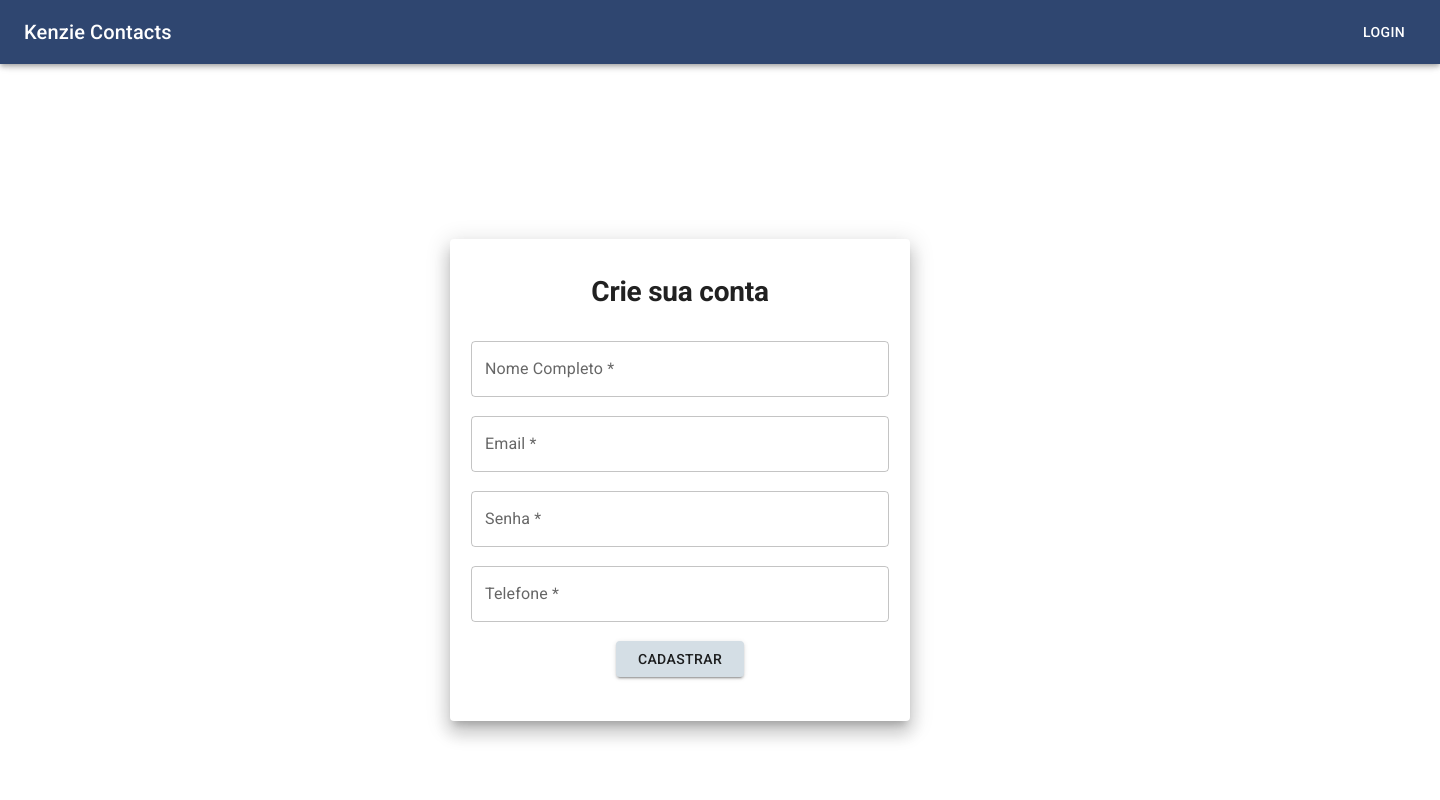
Test: Client › Tries to register
The width and height of the screenshot is (1440, 800).
In the field with id "name": (680, 369) [471,341,889,397], type "Kenzinho"
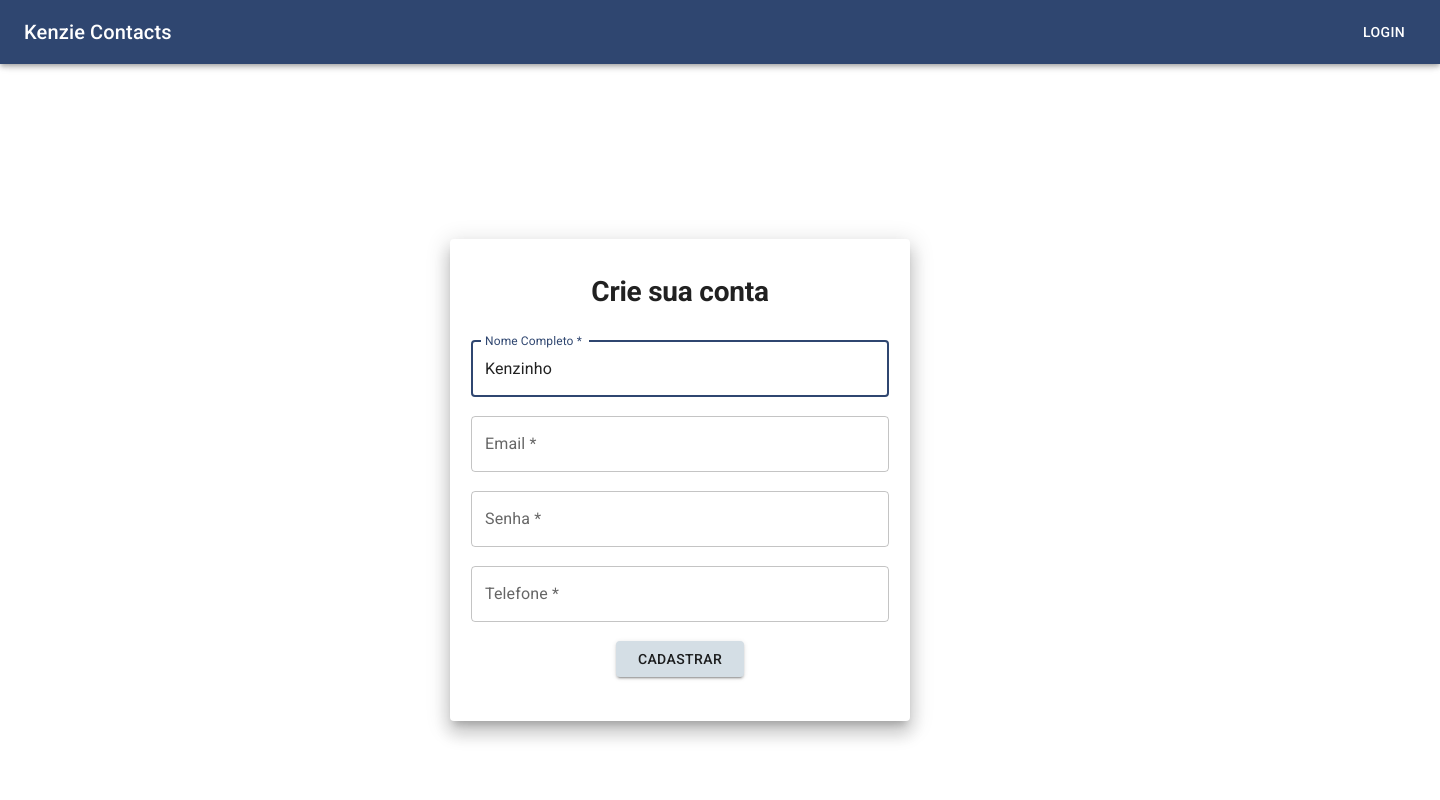
In the field with id "email": (680, 444) [471,416,889,472], type "kenzinho@mail.com"
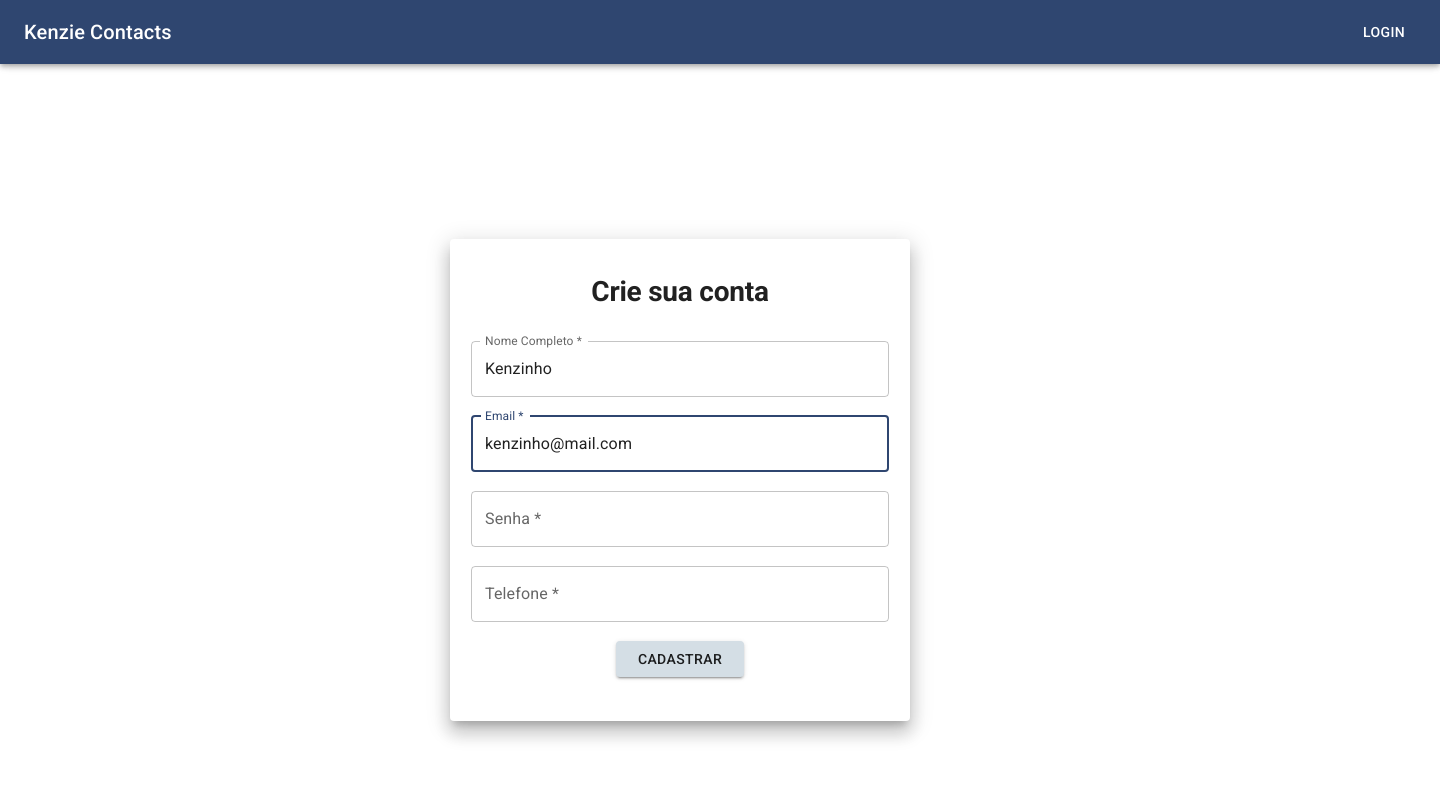
In the password field labelled "Senha *": (680, 519) [471,491,889,547], type "1234"
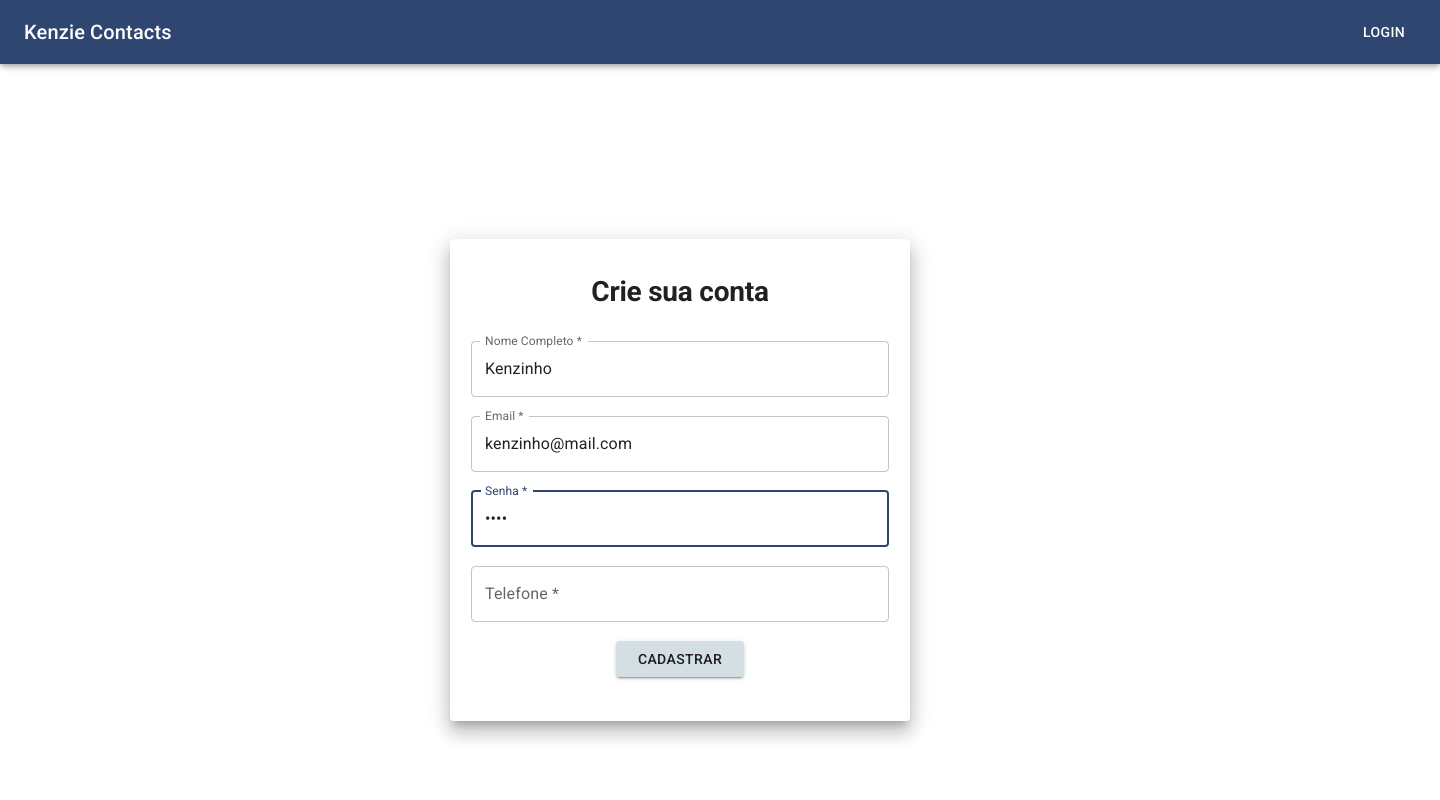
In the field labelled "Telefone *": (680, 594) [471,566,889,622], type "(00) 1111-1111"
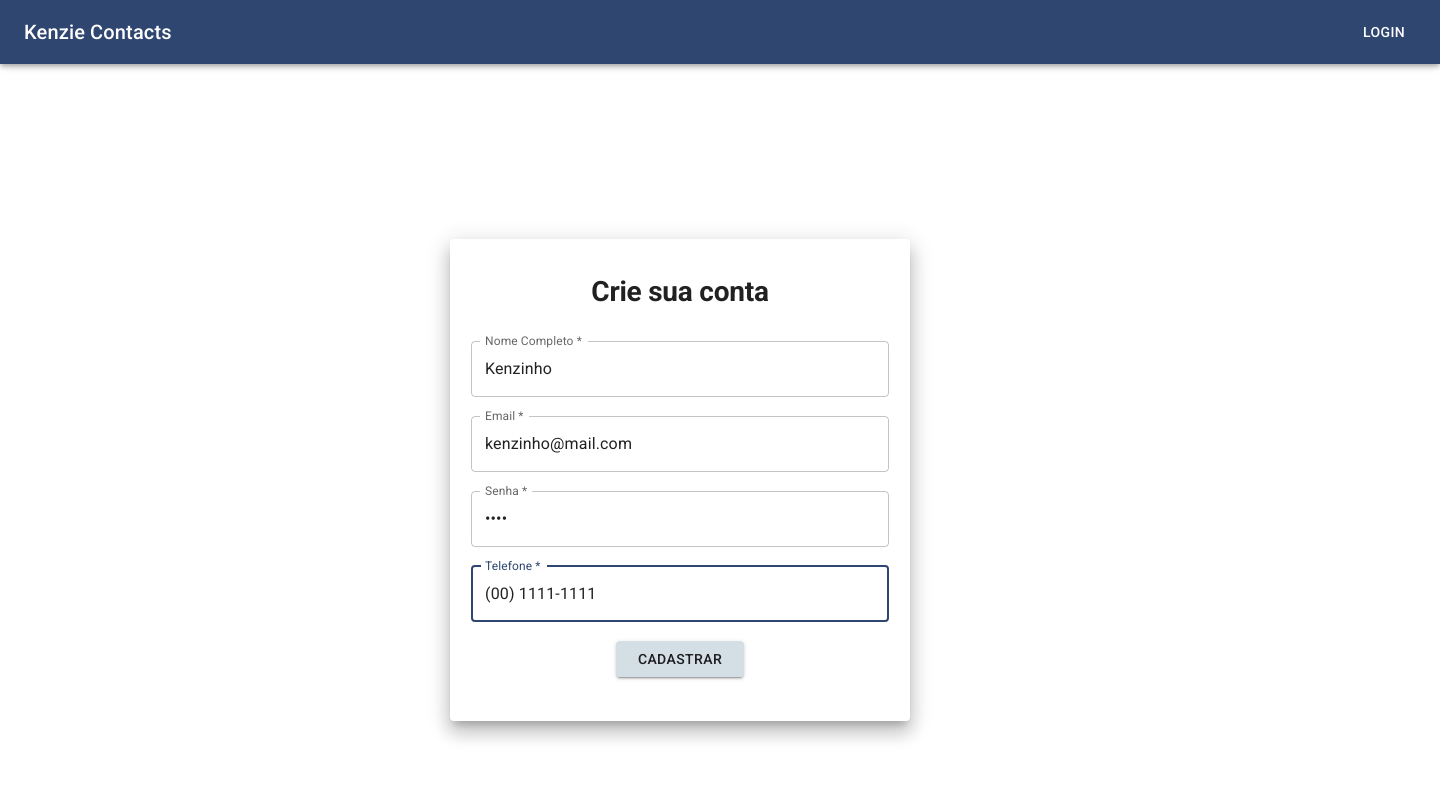
Click the button "Cadastrar": (681, 660) [616,641,745,678]
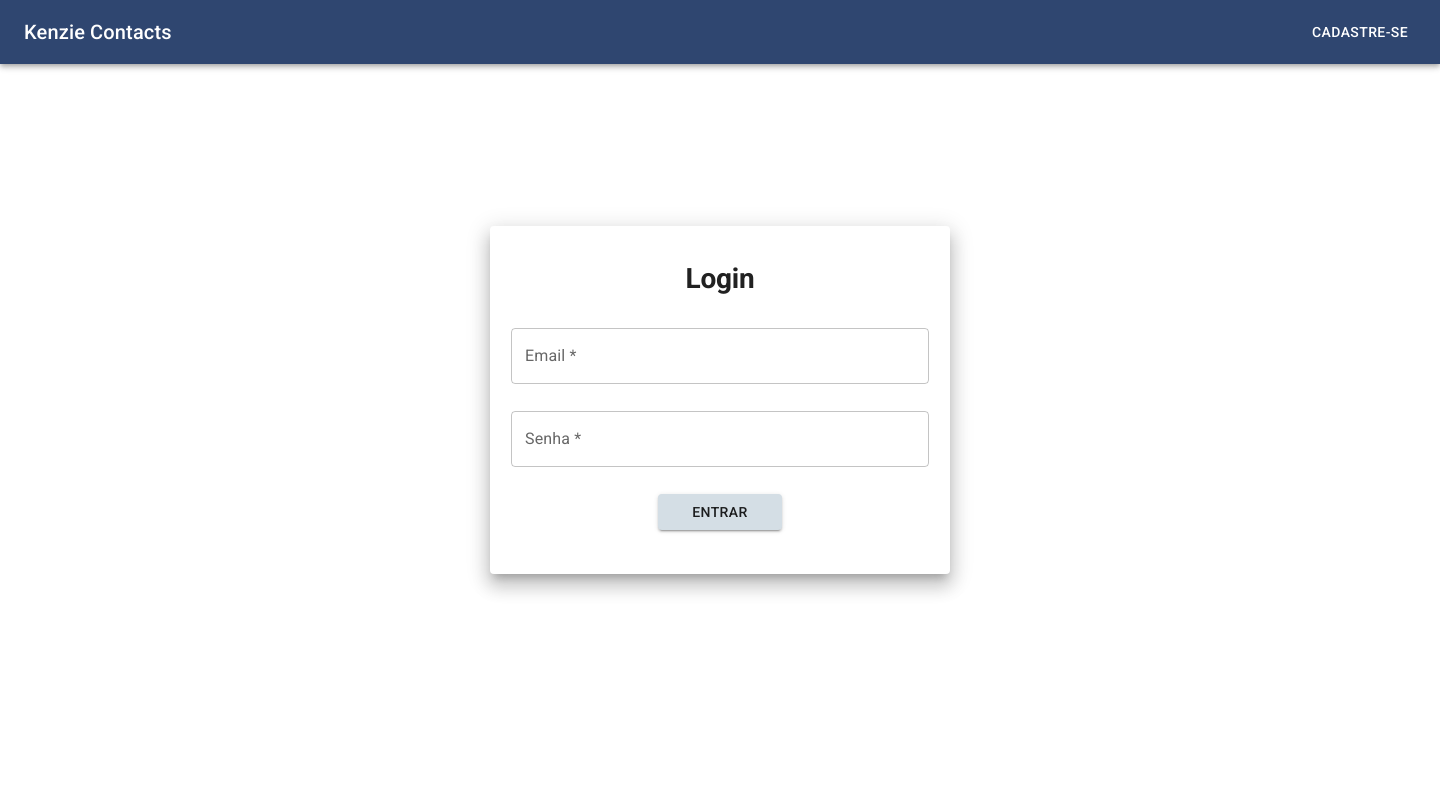
Expected: the heading "Login" is shown, [686,262,754,295]
